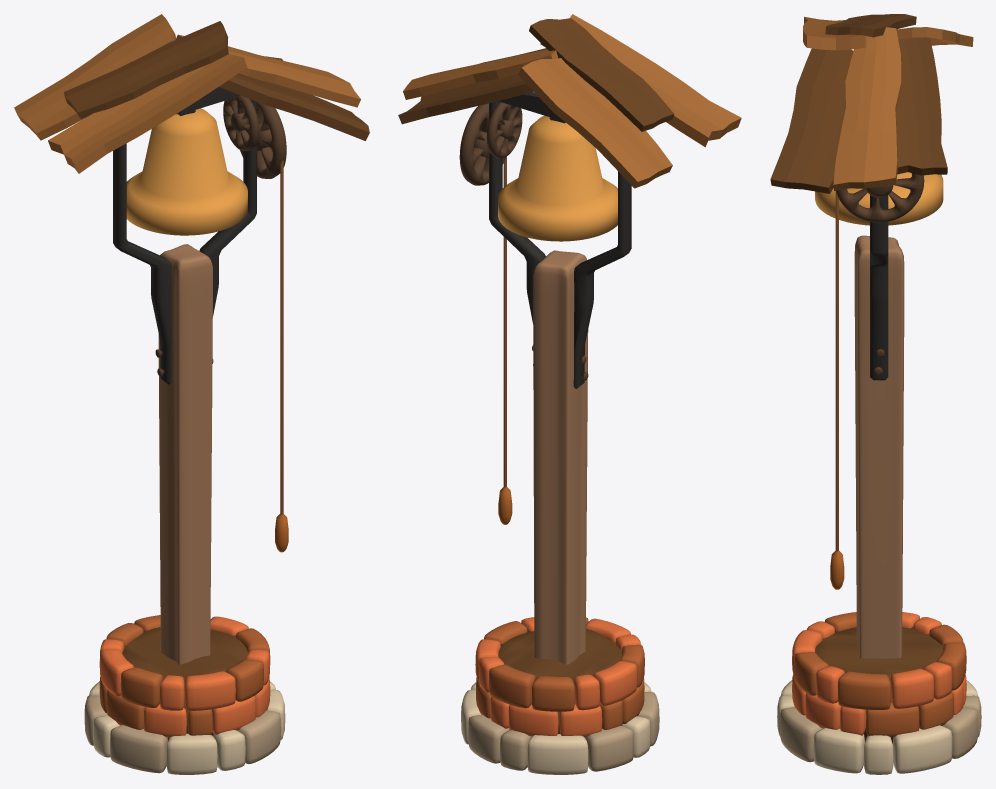
The model's file is bell.fbx.
3 views of the same model, side by side, from view 1: azimuth 30°, elevation 25°; view 2: azimuth 150°, elevation 25°; view 3: azimuth 270°, elevation 25° (orthographic). The views are drawn at different scales.
Parts seen in each view (by area): view 1: Pole, Roof, BrickBase, Bell, Base, WheelBig, Rope, WheelSmall; view 2: Pole, Roof, BrickBase, Bell, Base, WheelBig, Rope, WheelSmall; view 3: Roof, BrickBase, Pole, Base, Bell, WheelBig, Rope.
Boxes of the visible parts, x1=… form: Pole: x1=113, y1=99, x2=256, y2=664; Roof: x1=14, y1=14, x2=369, y2=173; BrickBase: x1=84, y1=615, x2=285, y2=774; Bell: x1=126, y1=87, x2=247, y2=235; Base: x1=122, y1=627, x2=247, y2=740; WheelBig: x1=240, y1=102, x2=286, y2=178; Rope: x1=275, y1=160, x2=288, y2=552; WheelSmall: x1=223, y1=95, x2=259, y2=151; Pole: x1=489, y1=101, x2=631, y2=664; Roof: x1=398, y1=14, x2=741, y2=188; BrickBase: x1=461, y1=617, x2=659, y2=774; Bell: x1=498, y1=92, x2=617, y2=241; Base: x1=498, y1=629, x2=621, y2=737; WheelBig: x1=459, y1=103, x2=505, y2=185; Rope: x1=498, y1=156, x2=512, y2=524; WheelSmall: x1=486, y1=102, x2=522, y2=157; Roof: x1=770, y1=14, x2=973, y2=193; BrickBase: x1=777, y1=612, x2=981, y2=774; Pole: x1=854, y1=195, x2=904, y2=658; Base: x1=815, y1=626, x2=943, y2=743; Bell: x1=815, y1=172, x2=943, y2=225; WheelBig: x1=836, y1=173, x2=924, y2=222; Rope: x1=830, y1=191, x2=844, y2=589.
Size of the model in its own units: 237 by 529 by 140.
